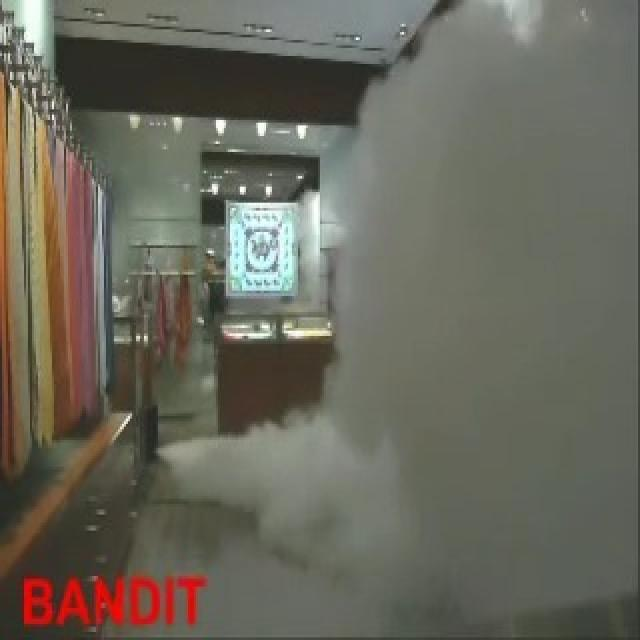Smoke: (158, 0, 640, 619)
